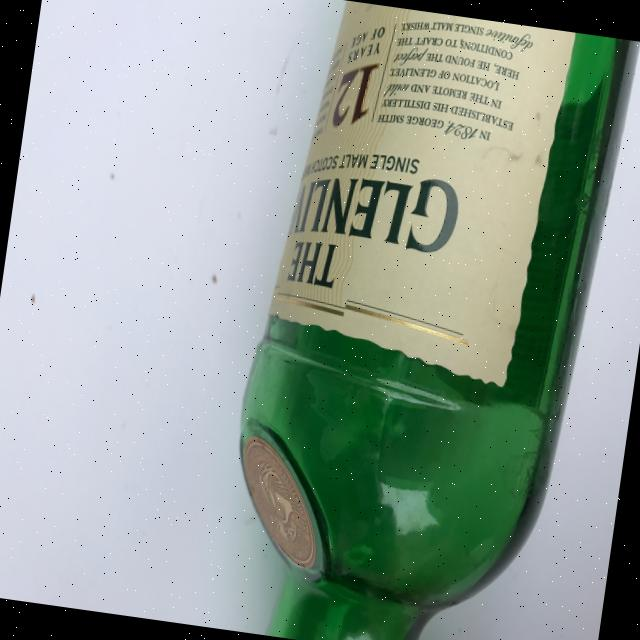glass: (208, 0, 639, 640)
